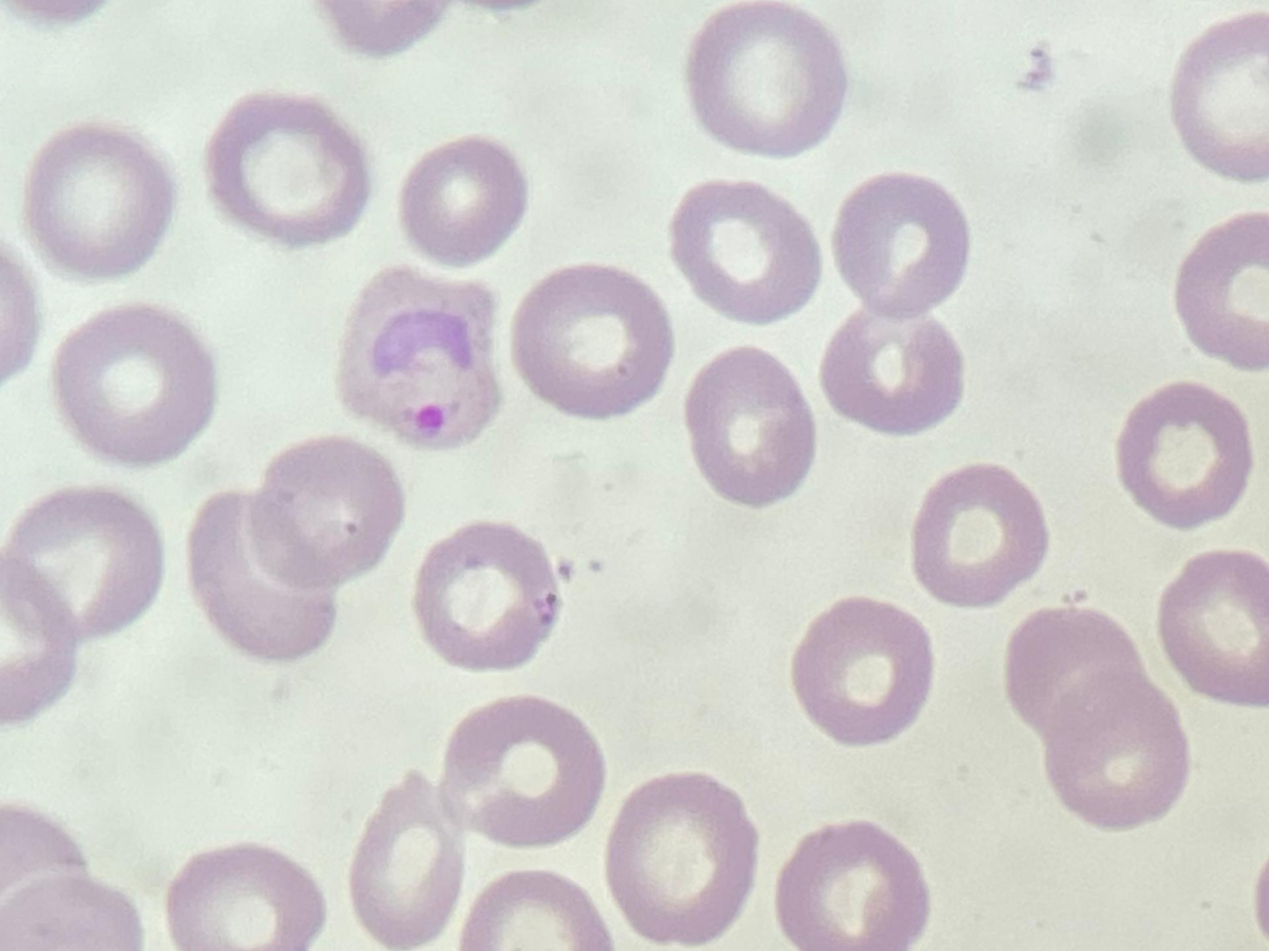Infected: (339, 263, 507, 452)
Uninfected: (186, 487, 339, 667), (606, 772, 758, 951), (243, 433, 409, 594), (56, 306, 219, 466), (208, 90, 369, 250), (511, 263, 675, 419), (441, 698, 607, 848), (684, 5, 844, 160), (12, 484, 165, 638), (21, 124, 171, 279), (1043, 671, 1189, 830), (791, 593, 935, 749), (347, 774, 470, 951), (674, 179, 822, 326), (416, 526, 560, 674), (692, 347, 818, 510), (775, 823, 934, 951), (825, 296, 970, 435), (834, 175, 974, 316), (1119, 382, 1251, 527), (915, 471, 1049, 610), (1160, 547, 1269, 713), (169, 845, 330, 951), (398, 134, 525, 268), (1010, 607, 1139, 738), (1173, 14, 1269, 181), (1176, 212, 1269, 379)
